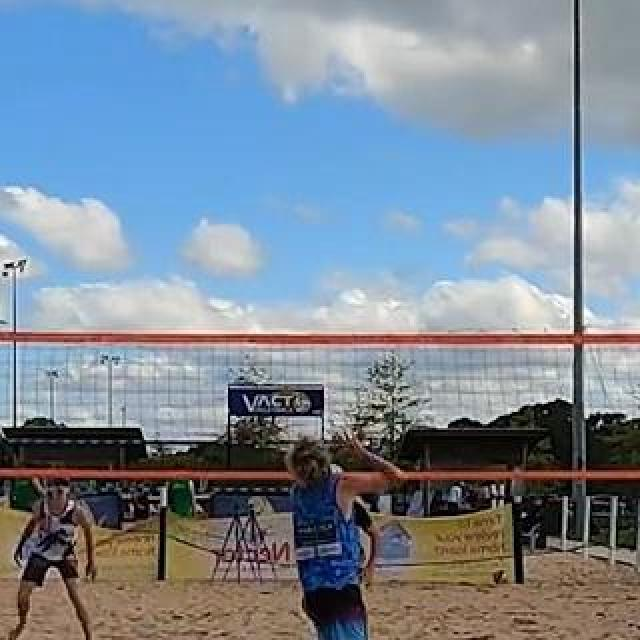volleyball: (492, 568, 510, 586)
